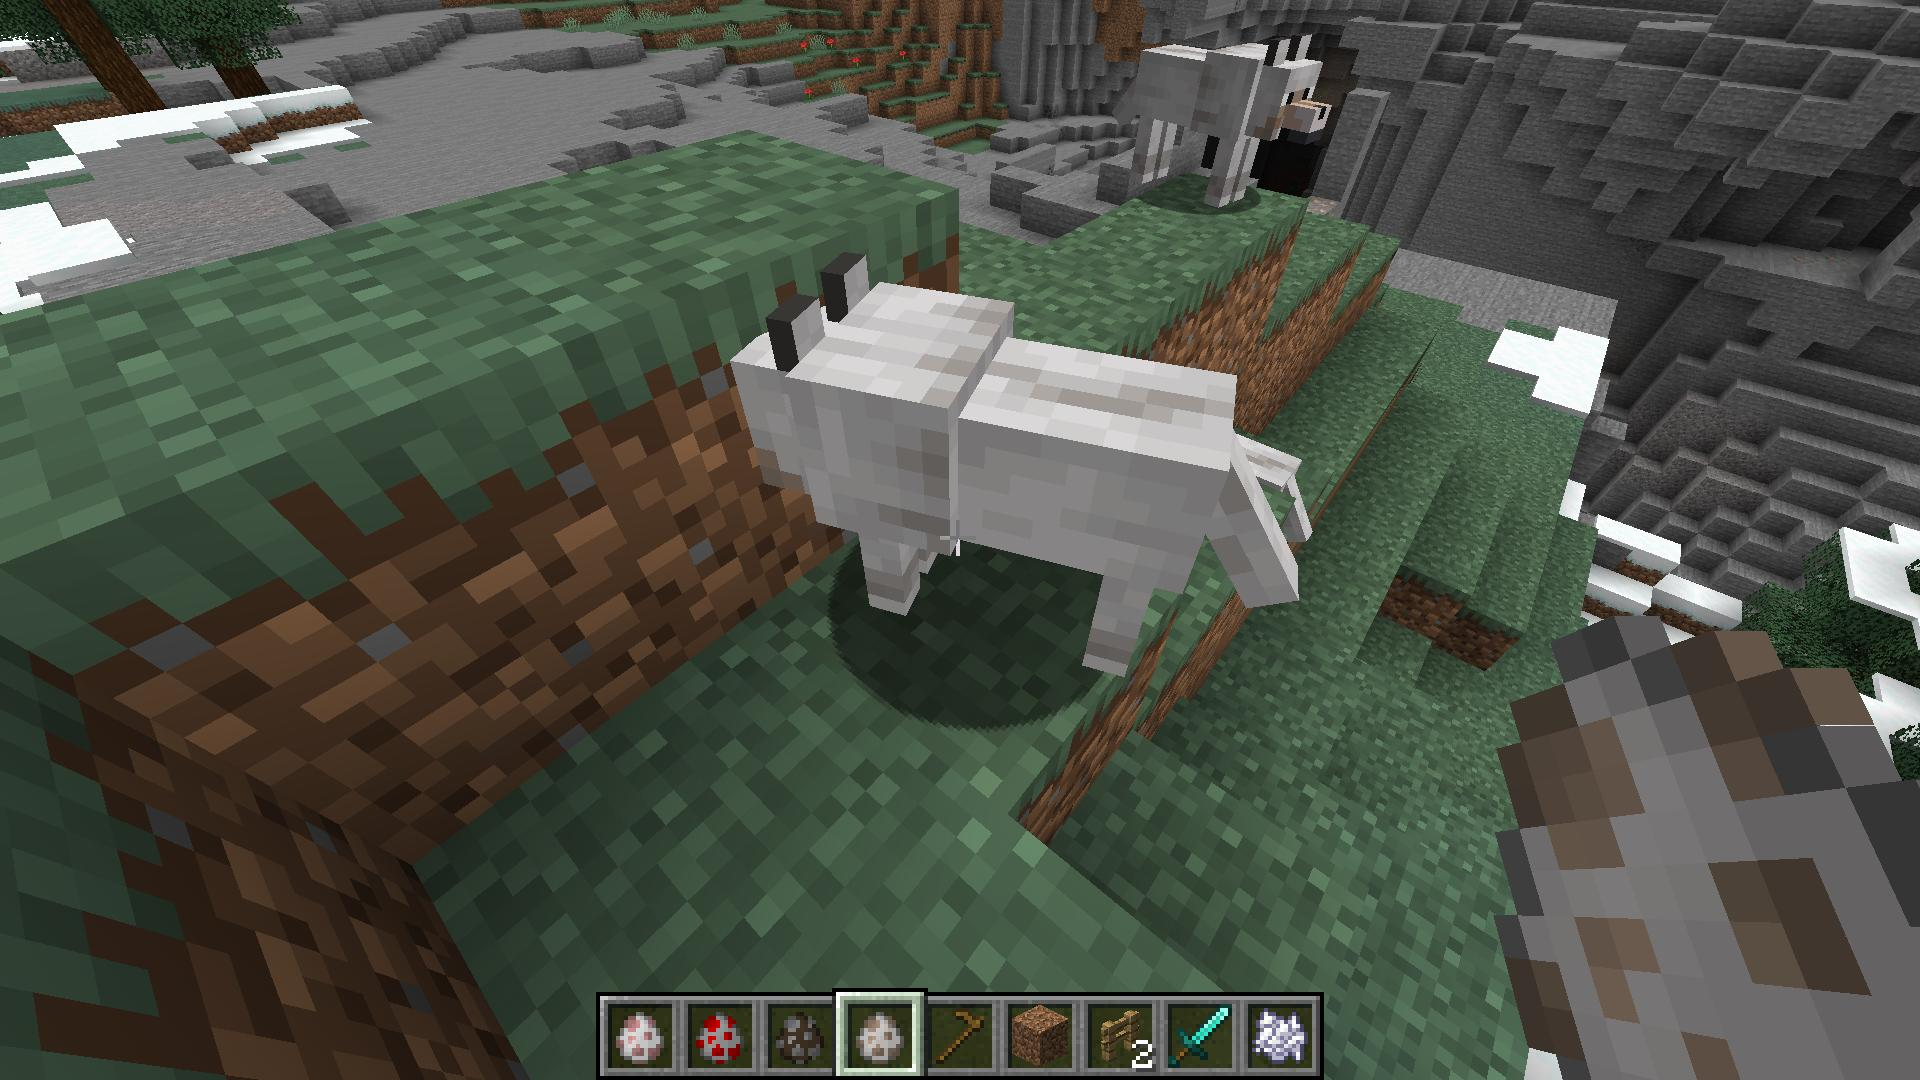wolf: (720, 244, 1307, 684), (1112, 24, 1338, 211)
